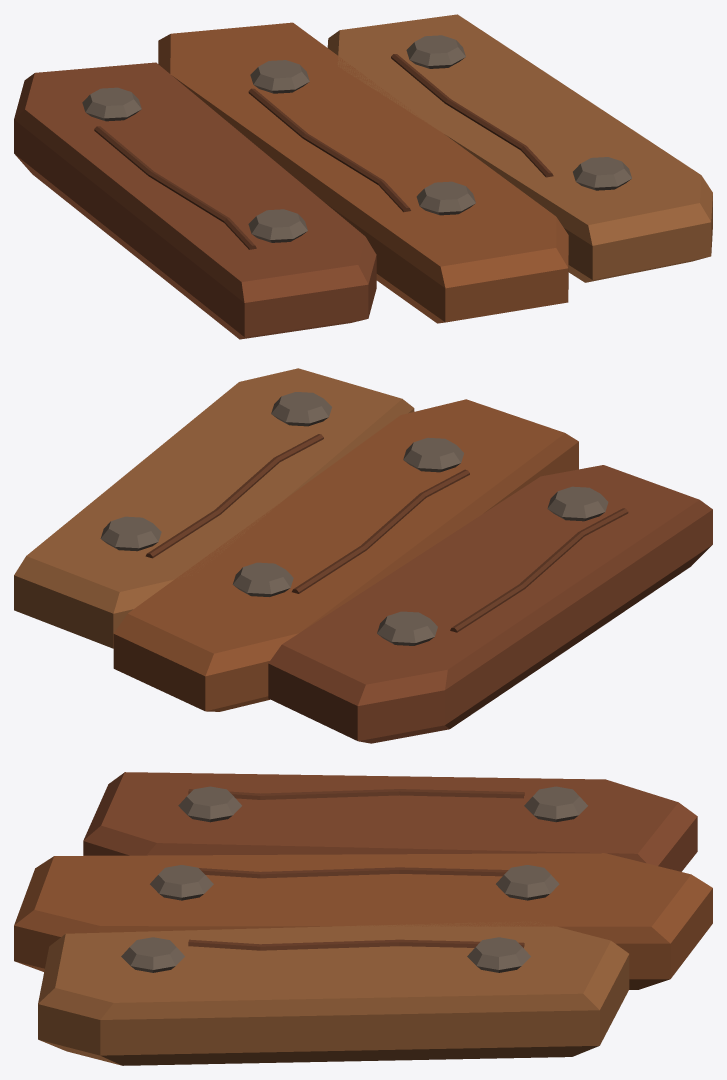
The model's file is salzsee_11.glb.
3 views of the same model, one above another, from view 1: azimuth 30°, elevation 25°; view 2: azimuth 150°, elevation 25°; view 3: azimuth 270°, elevation 25° (orthographic). The views are drawn at different scales.
Parts seen in each view (by area): view 1: salzsee_11; view 2: salzsee_11; view 3: salzsee_11.
Boxes of the visible parts, left/top/right/bottom form: salzsee_11: left=14, top=14, right=712, bottom=339; salzsee_11: left=14, top=368, right=712, bottom=743; salzsee_11: left=14, top=772, right=712, bottom=1065.
Bounding box in the file's own units: 1.6 × 0.252 × 2.
